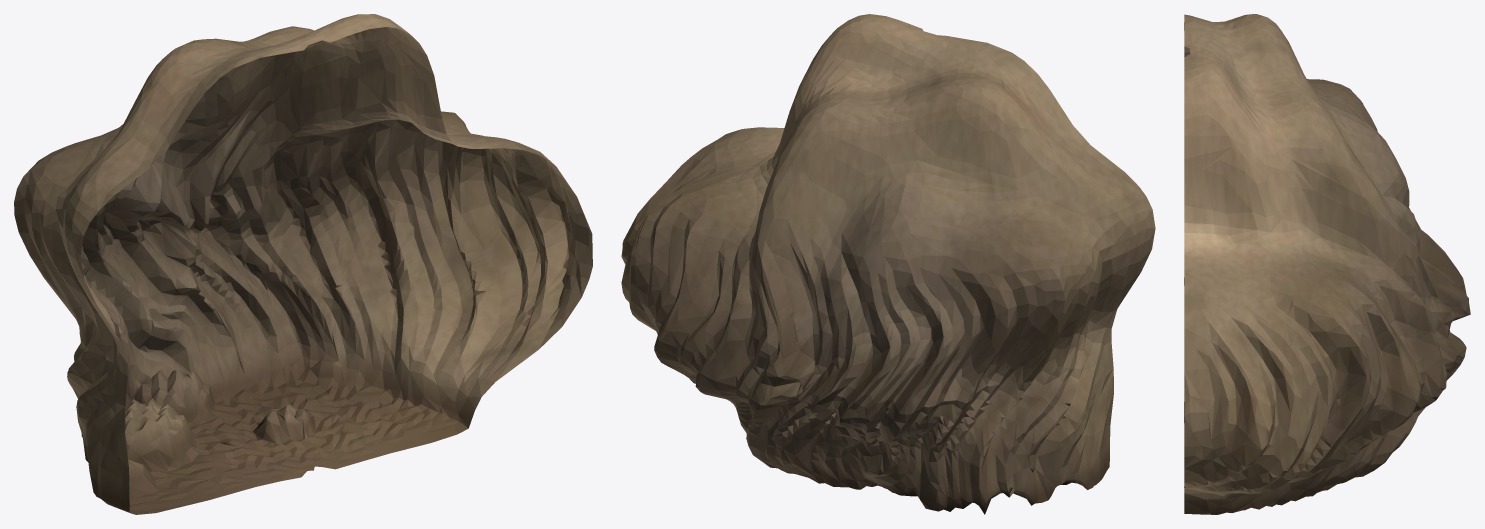
File: cave_room.glb
3 views of the same model, side by side, from view 1: azimuth 30°, elevation 25°; view 2: azimuth 150°, elevation 25°; view 3: azimuth 270°, elevation 25° (orthographic). The views are drawn at different scales.
Visible parts, largest first — view 1: cave_room; view 2: cave_room; view 3: cave_room.
Boxes of the visible parts, x1,y1,x2,y2 form: cave_room: (14, 14, 592, 514); cave_room: (621, 14, 1155, 514); cave_room: (1184, 14, 1470, 514).
Bounding box in the file's own units: 2.05 × 1.62 × 1.03.
1 material, 1 textured.
